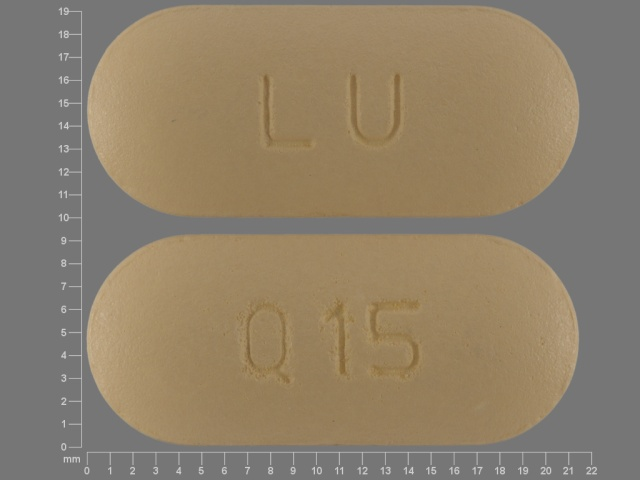1: (319, 298, 358, 384)
5: (365, 298, 429, 384)
L: (250, 70, 321, 155)
Q: (240, 300, 299, 392)
U: (338, 69, 408, 151)
